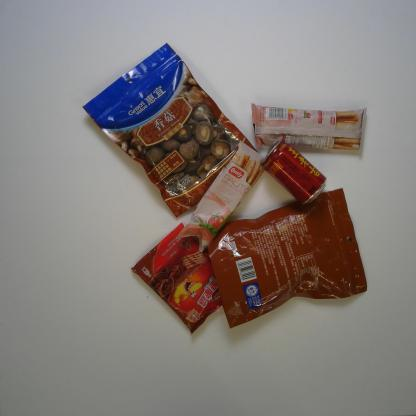Dessert: (174, 137, 266, 253), (130, 222, 222, 336), (250, 102, 368, 154)
Dried Food: (80, 42, 260, 220), (206, 187, 368, 330)
Drink: (260, 139, 328, 207)
